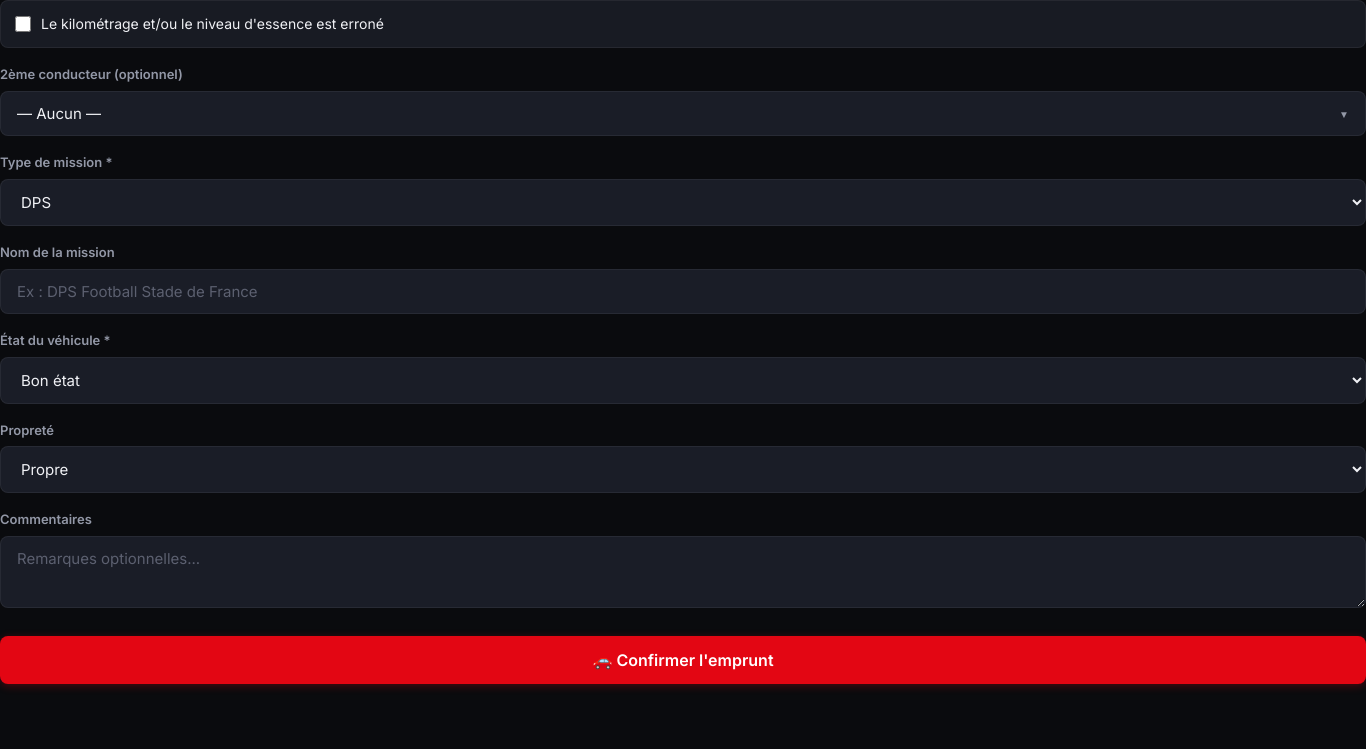
Test: CheckOutForm (QR) — correction kilométrage / carburant › signale une saisie inférieure au kilométrage connu
Click the checkbox labelled "Le kilométrage et/ou le niveau d'essence est erroné" at (23, 24), box [15,16,31,32]
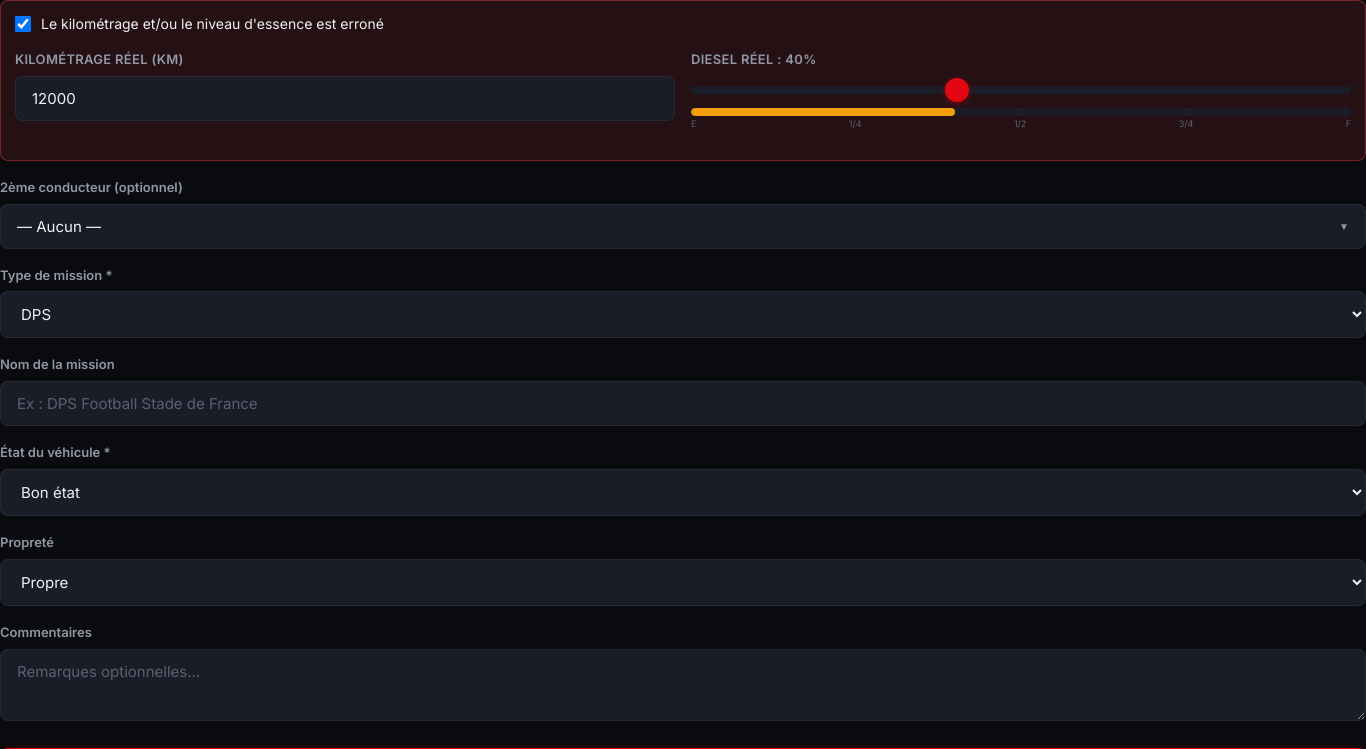
Expected: the text "Inférieur au kilométrage connu" is not shown
Replace the text in the number field labelled "Kilométrage réel (km)" with "1200" at (345, 99), box [15,76,675,121]
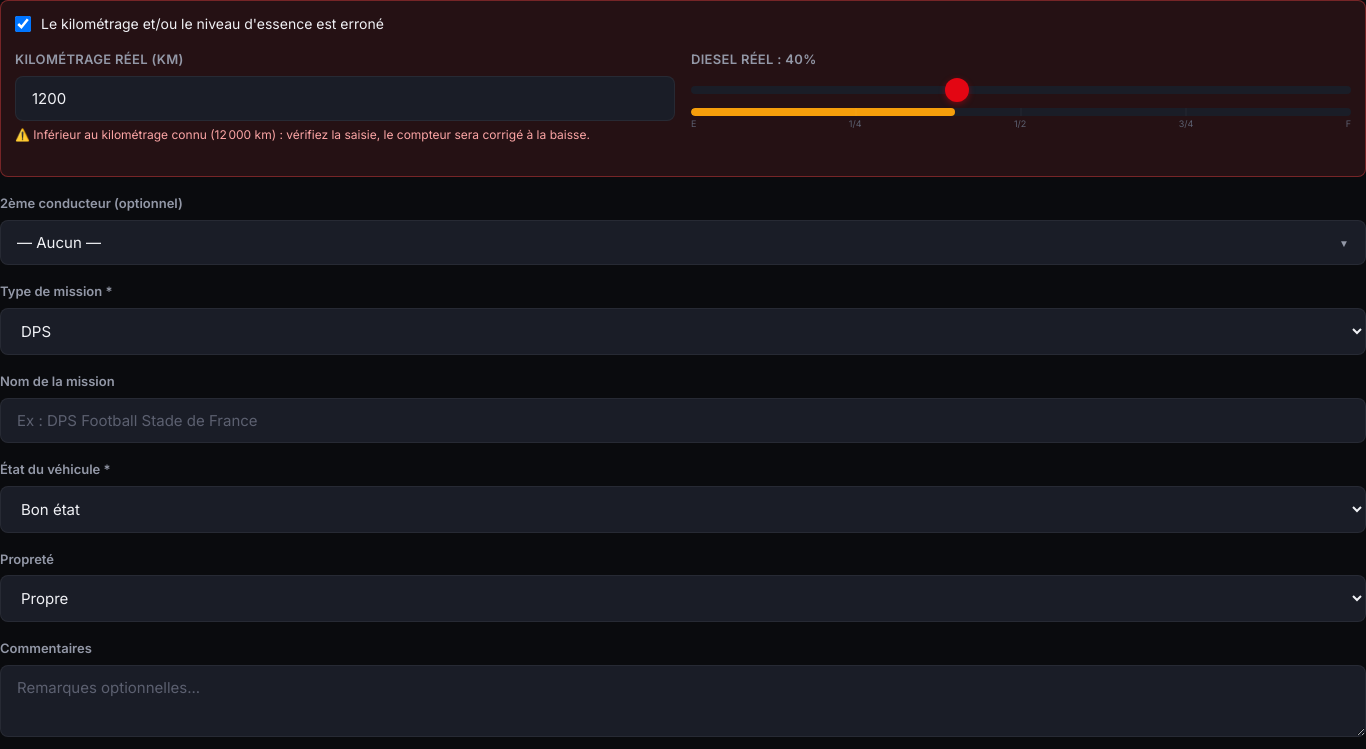
Expected: the text "Inférieur au kilométrage connu (12.000 km)" is shown, [15,125,675,144]
